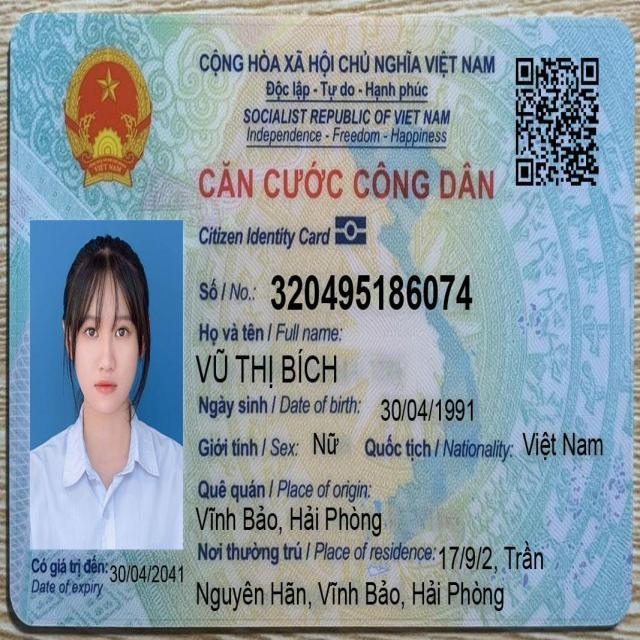current_place: (193, 575, 506, 617), (436, 537, 547, 578)
dob: (378, 394, 476, 426)
expire_date: (107, 557, 187, 589)
gender: (311, 427, 342, 461)
id: (268, 270, 476, 315)
name: (193, 345, 340, 392)
nationality: (521, 428, 605, 464)
origin_place: (193, 502, 383, 540)
qr: (508, 50, 611, 195)
